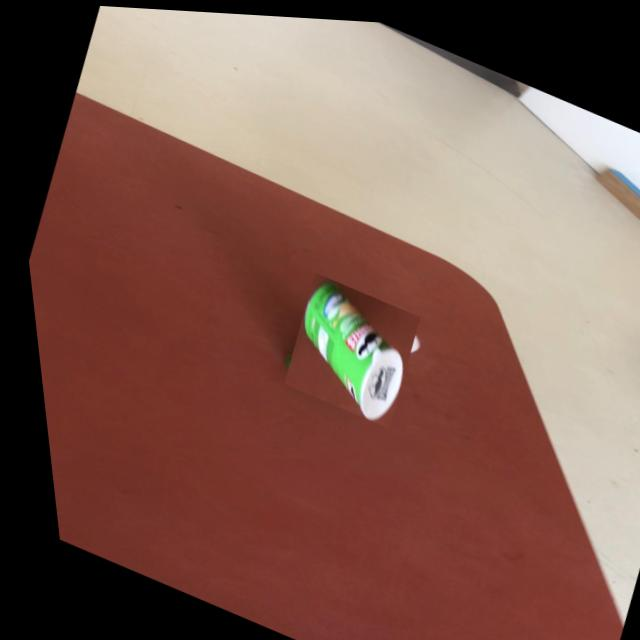a pringles: (263, 269, 425, 425)
